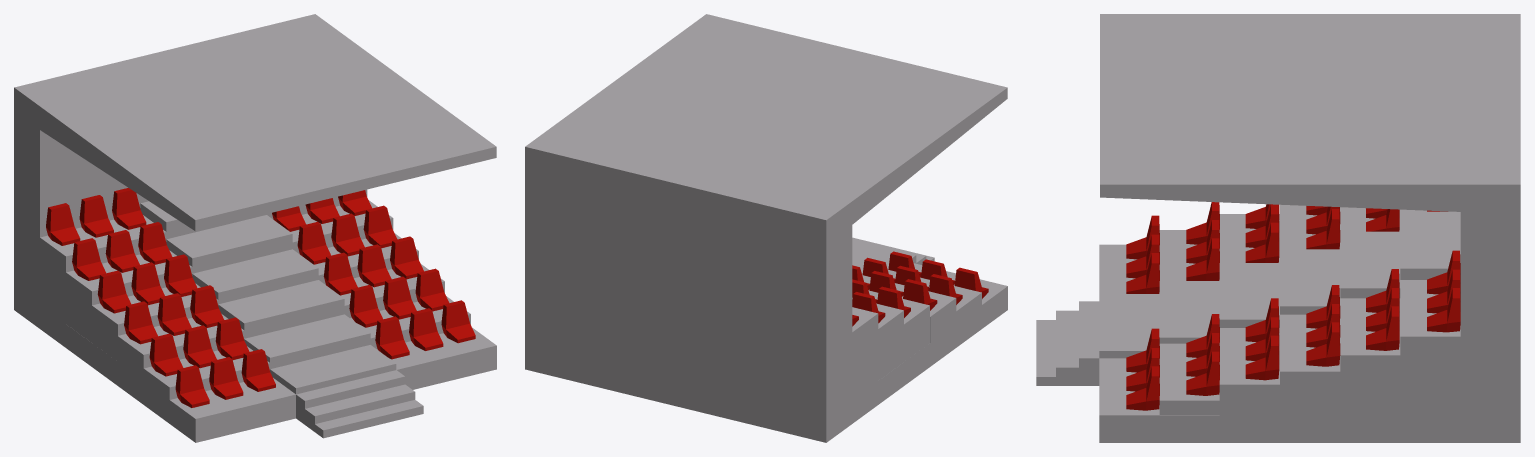
The model's file is Tribune.fbx.
3 renders of one model, left to right at view 1: azimuth 30°, elevation 25°; view 2: azimuth 150°, elevation 25°; view 3: azimuth 270°, elevation 25°, orthographic. The views are drawn at different scales.
Visible parts, largest first — view 1: Cube; view 2: Cube; view 3: Cube.
Boxes of the visible parts, x1,y1,x2,y2 form: Cube: [14, 14, 496, 442]; Cube: [525, 14, 1007, 442]; Cube: [1036, 14, 1520, 442].
Bounding box in the file's own units: 1318 × 930 × 1581.
